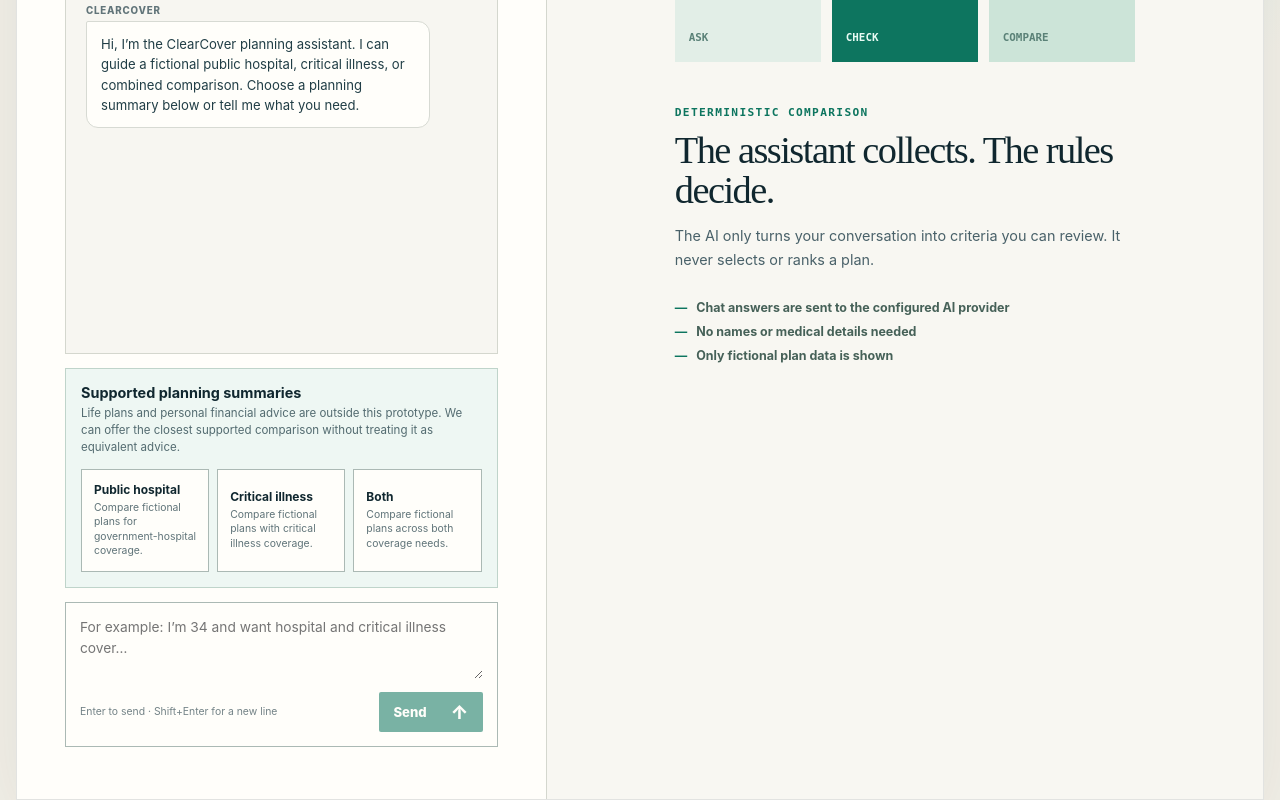
Test case: InsurancePlanner › shows a safe API error without losing the user's answer
(page scrolled)
In the text box named "Reply to the planning assistant": (281,648) left=80, top=617, right=482, bottom=679, type "My email is person@example.com"
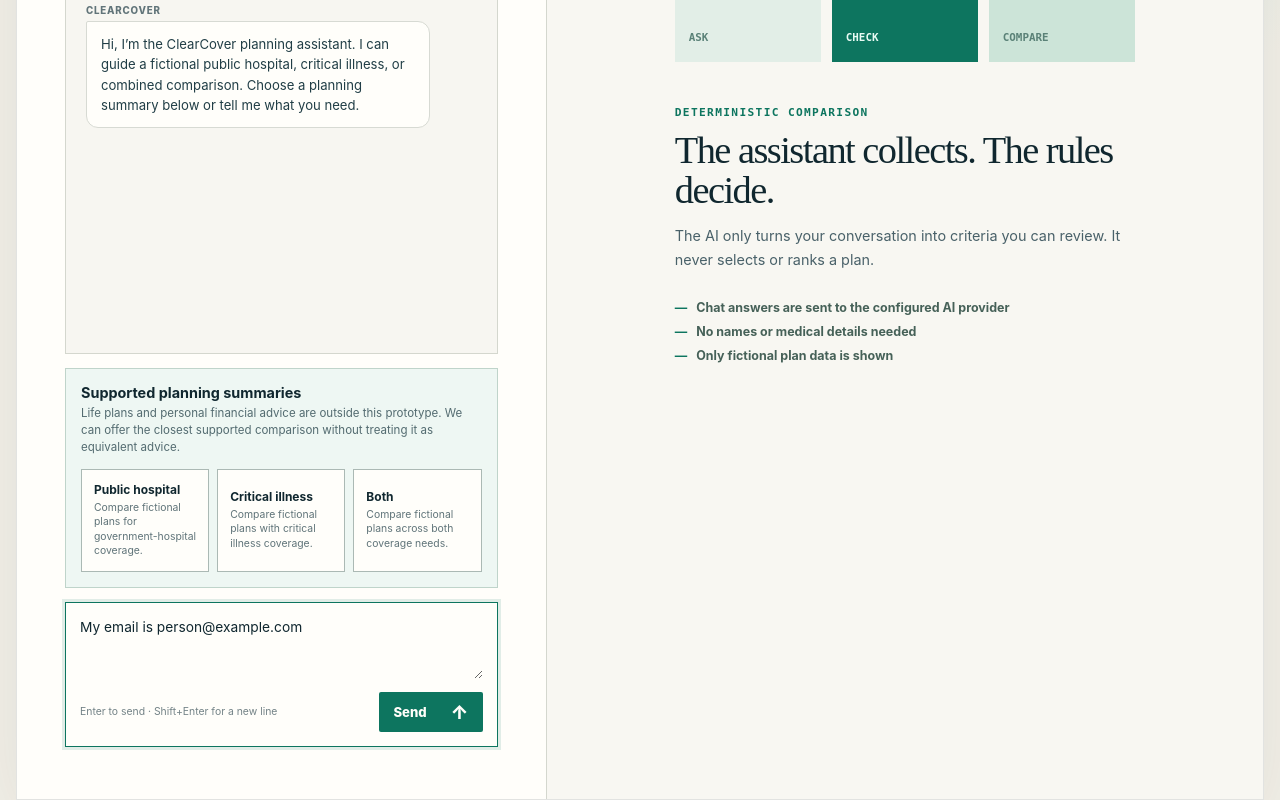
Click the button "Send ↑": (431,712) left=379, top=692, right=483, bottom=732
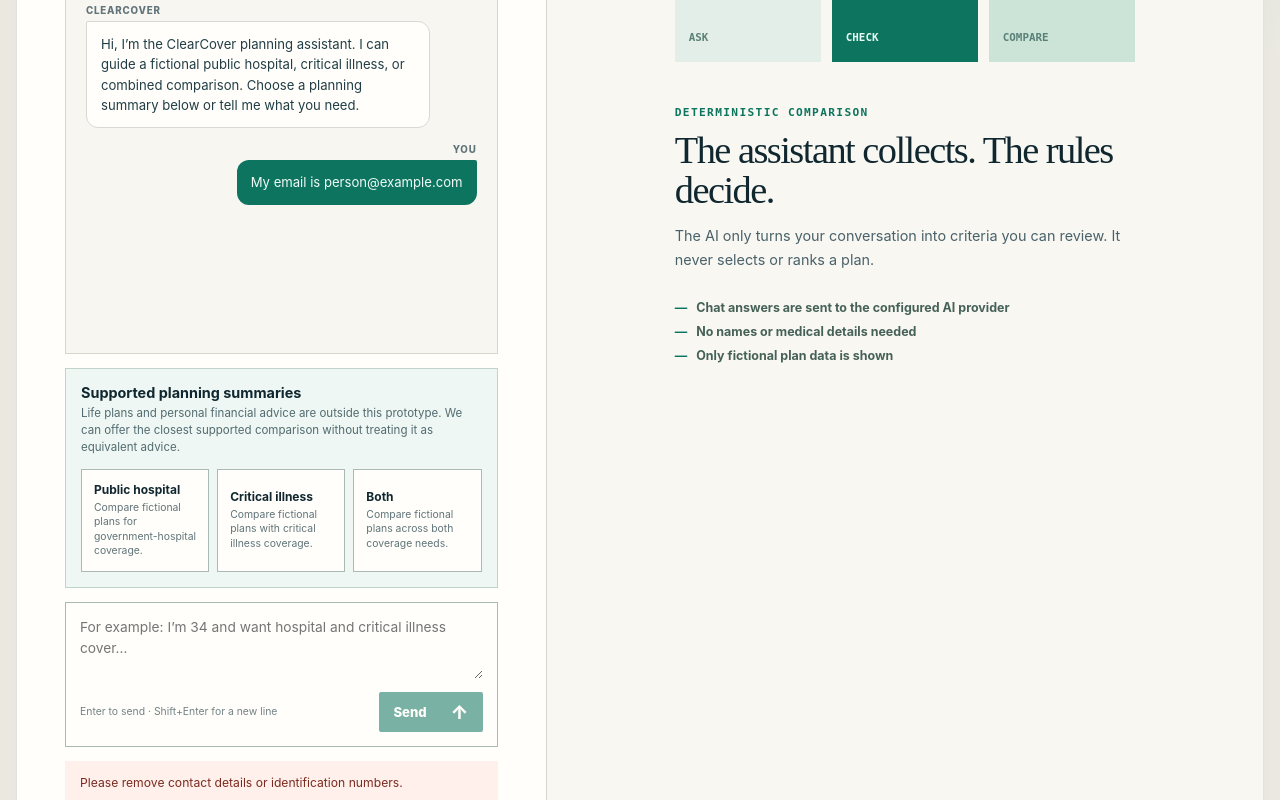
Check: the message shows "Please remove contact details", box left=80, top=775, right=403, bottom=790
Check: the text "My email is person@example.com" is shown, box left=237, top=160, right=477, bottom=204
